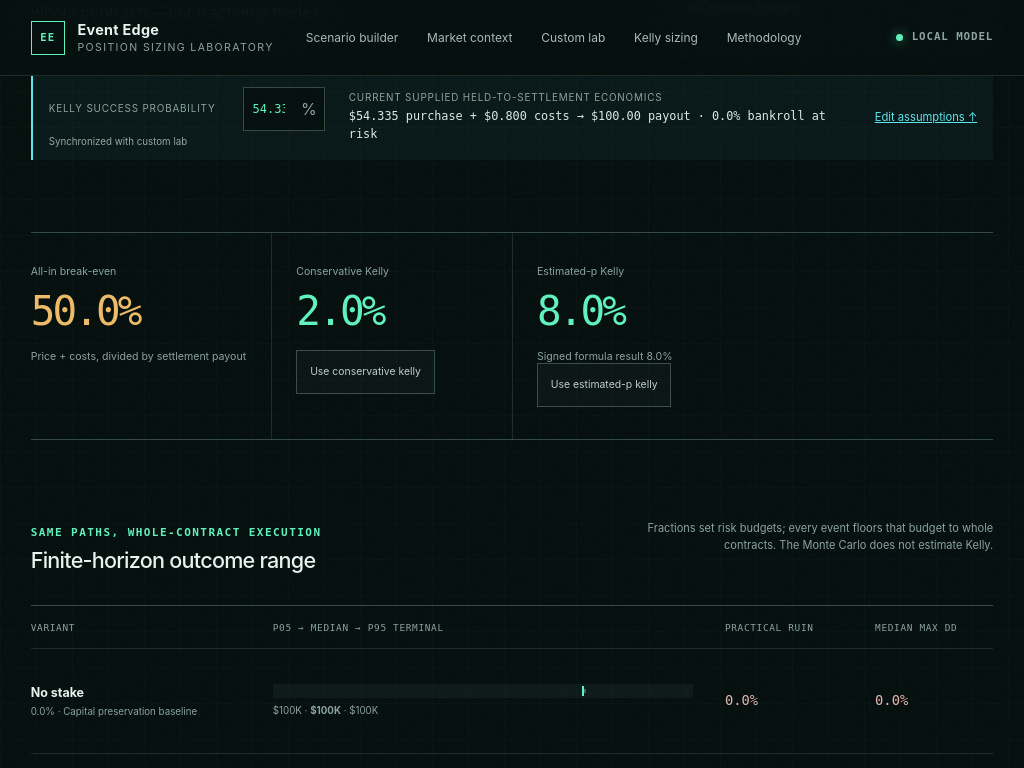
App › applies a synchronized Kelly risk budget
(page scrolled)
Click the button "Use estimated-p kelly" at (604, 385), box [537, 363, 671, 407]
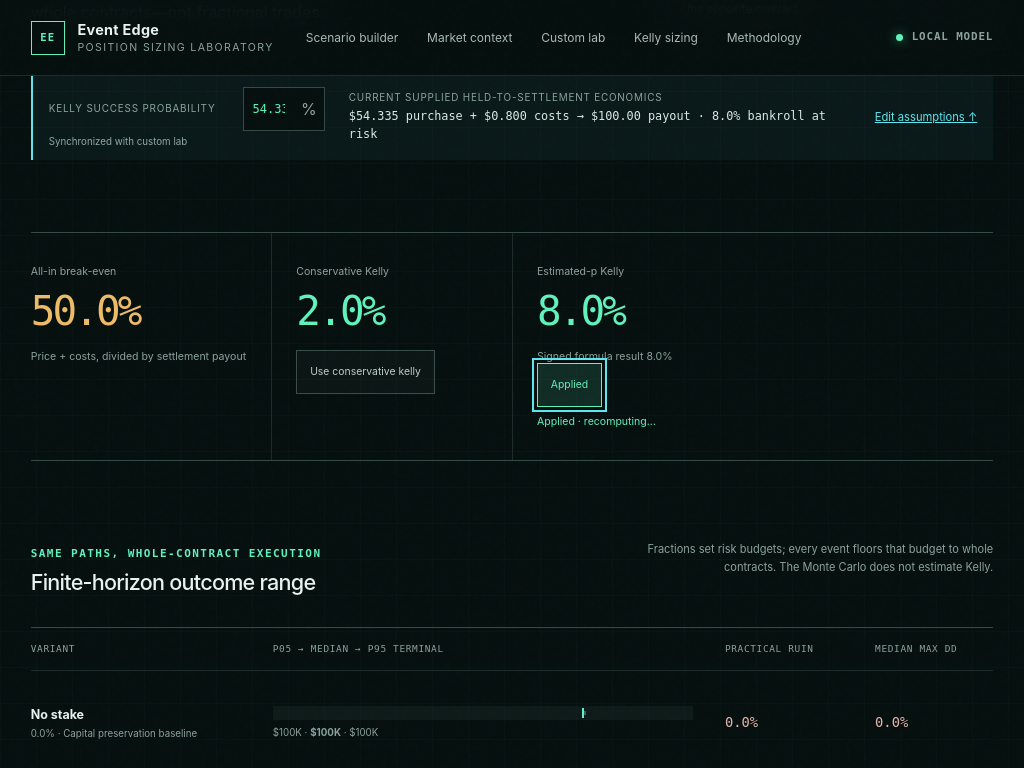
Check: the text "Applied · recomputing…" is shown, box [537, 415, 656, 428]
